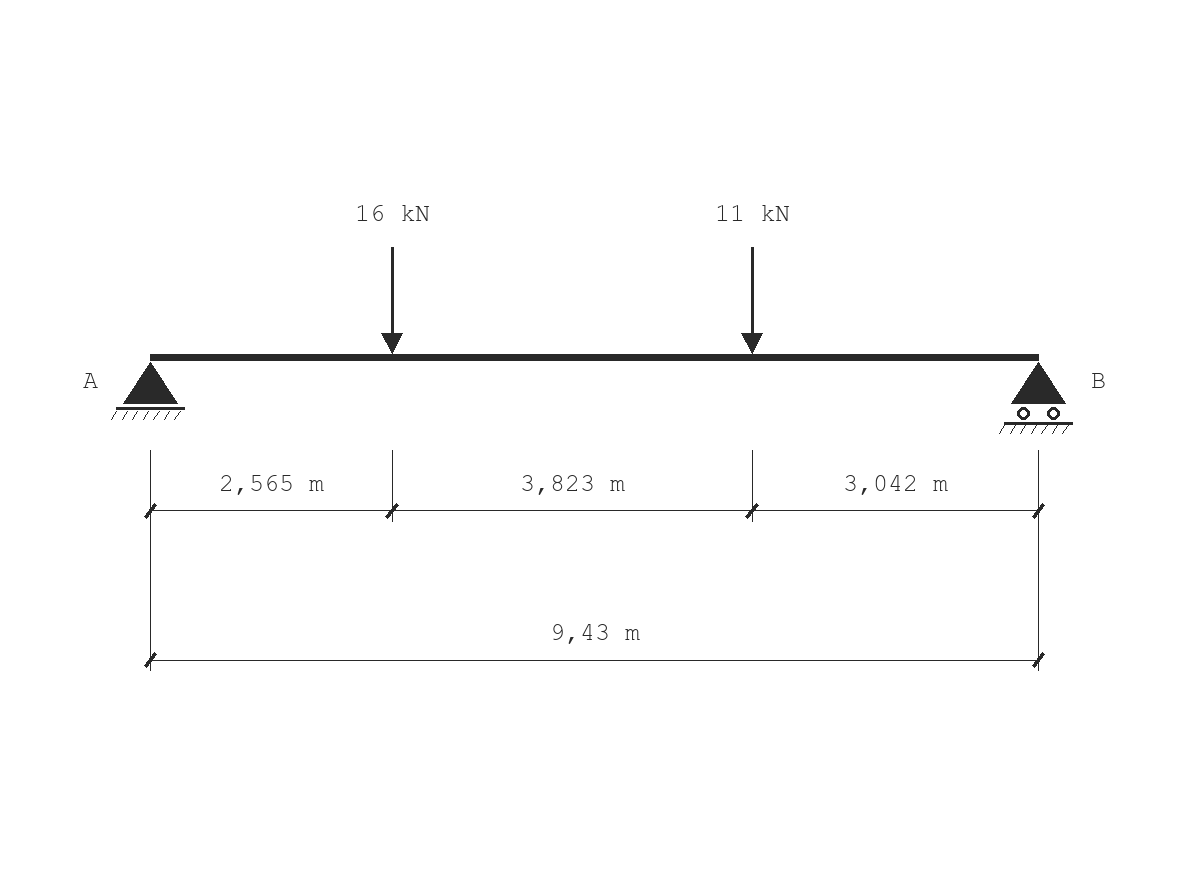pin_support: (111, 362, 185, 420)
point_load: (381, 247, 403, 354), (741, 247, 763, 354)
roller_support: (999, 362, 1073, 434)
